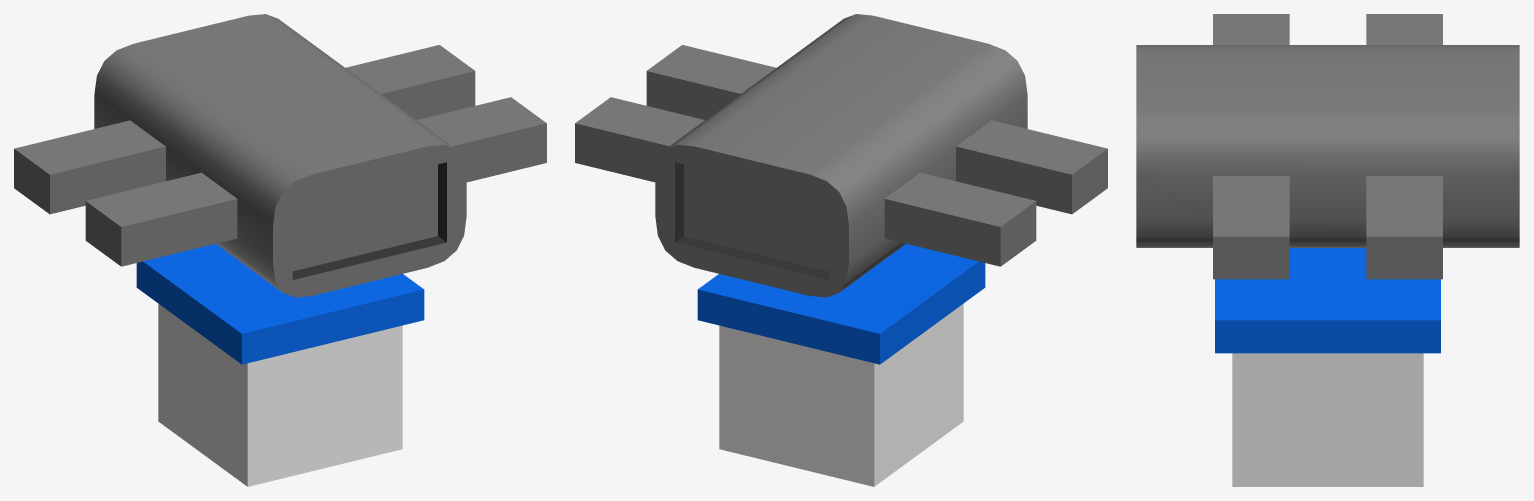
Rendered from drone_small.fbx.
3 renders of one model, left to right at view 1: azimuth 30°, elevation 25°; view 2: azimuth 150°, elevation 25°; view 3: azimuth 270°, elevation 25°, orthographic. The views are drawn at different scales.
Visible parts, largest first — view 1: Box001, Box002; view 2: Box001, Box002; view 3: Box001, Box002.
Boxes of the visible parts, x1,y1,x2,y2 form: Box001: (14,14,546,297); Box002: (136,243,424,486); Box001: (575,14,1107,297); Box002: (697,243,985,486); Box001: (1136,14,1519,279); Box002: (1215,248,1440,486).
Bounding box in the file's own units: 21.65 × 16.55 × 15.75.
